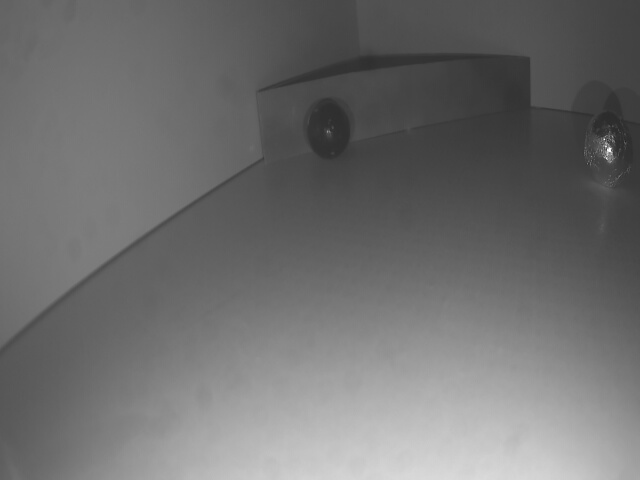Dead: (307, 102, 350, 158)
Green: (257, 58, 532, 162)
Live: (585, 114, 634, 187)
